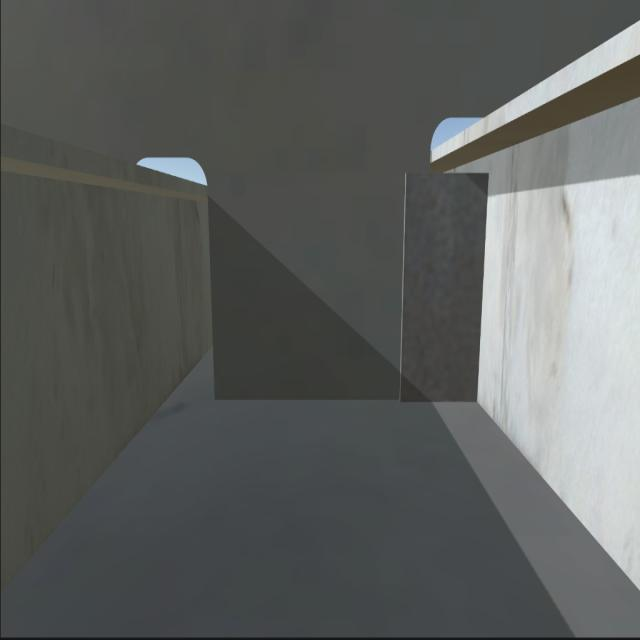fillet_yong_jeop_jang: (213, 394, 477, 406)
longi_yong_jeop_jang: (476, 177, 488, 401)
plate_CP01: (405, 174, 478, 398)
